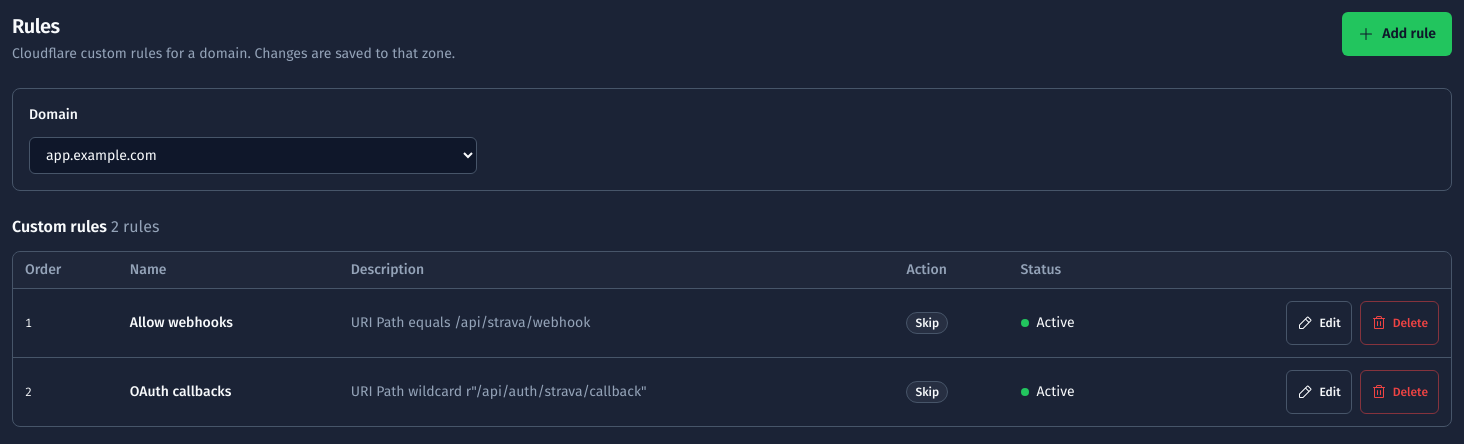
Test: RulesPage › shows an empty list for a domain with no rules
Check: the text "Allow webhooks" is shown, box 118,288 -> 339,358
Select "notes.example.com" in the dropdown labelled "Domain": (253, 156) 29,137 -> 477,174
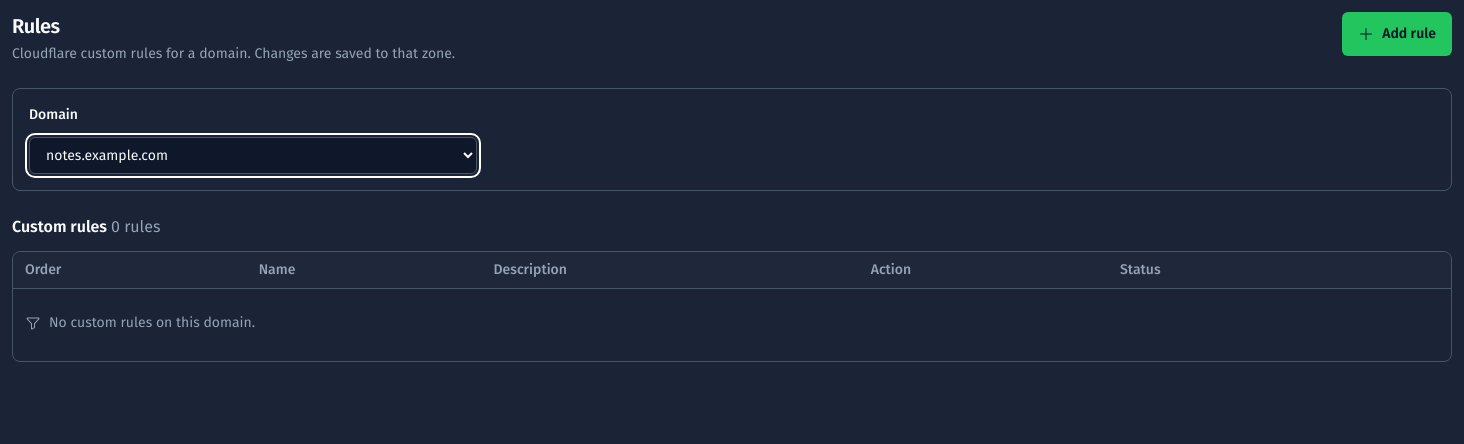
Check: the text "No custom rules on this domain." is shown, box 25,313 -> 255,333
